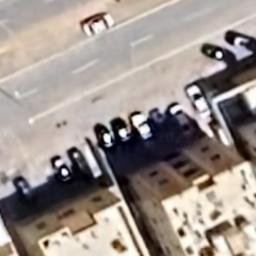sedan: (180, 80, 216, 121), (146, 108, 176, 148), (198, 41, 241, 68), (77, 10, 117, 38), (167, 102, 197, 138), (9, 176, 42, 208), (65, 145, 93, 182), (223, 28, 256, 52), (110, 118, 134, 150), (92, 124, 116, 156), (128, 111, 154, 139), (49, 156, 73, 184)
